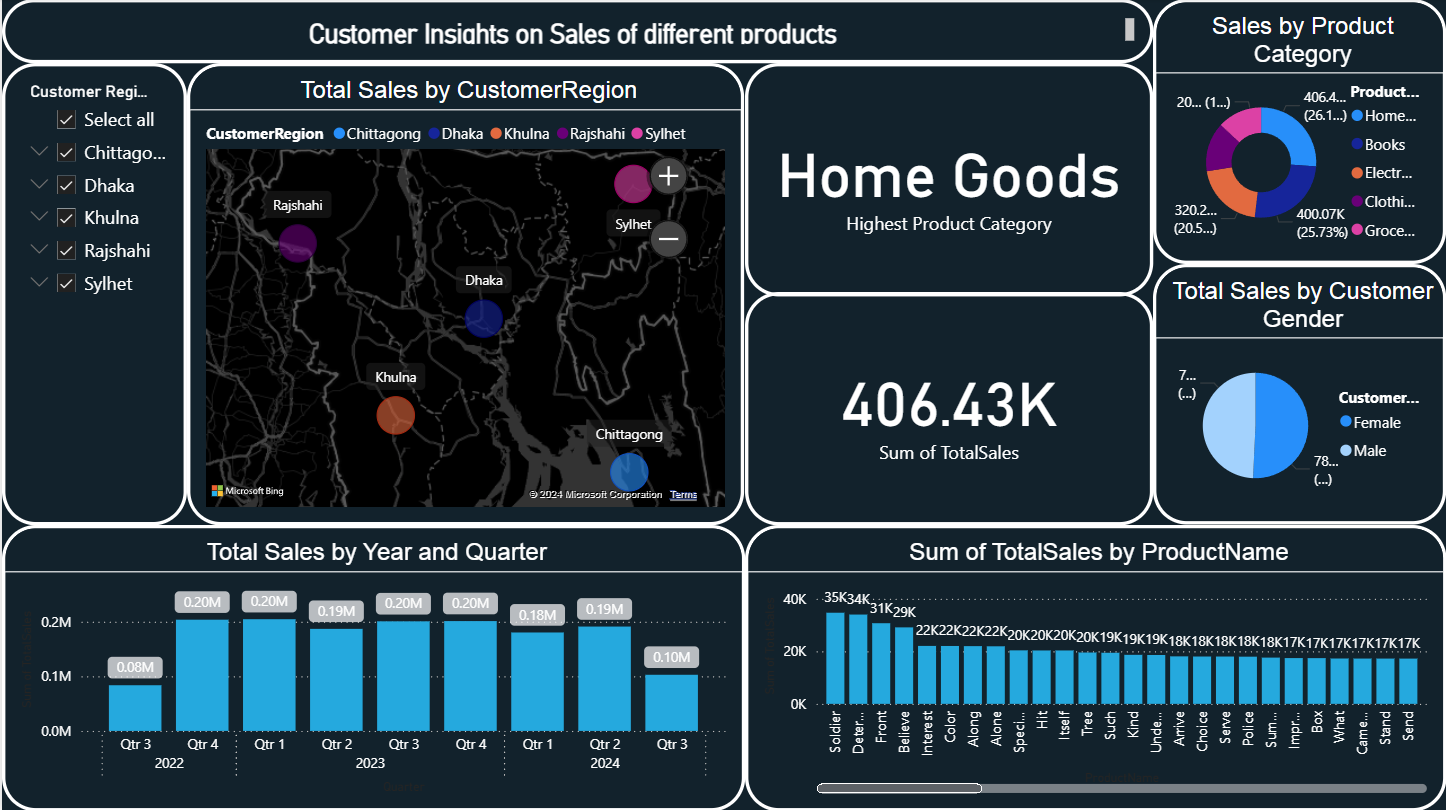

This screenshot's page, from the dashboard's own definition file:
{"tool":"powerbi","page":{"name":"Page 1","canvas":[1280,720],"ordinal":0},"visuals":[{"type":"map","title":"Total Sales by CustomerRegion","fields":{"Series":["Report.CustomerRegion"],"Size":["CountNonNull(Sales_region.TotalSales)"],"Category":["Report.CustomerRegion"]},"box":[164.4,56.4,494.1,410.5],"z":0},{"type":"textbox","box":[0,0,1020.6,56.7],"z":1000},{"type":"donutChart","title":"Sales by Product Category","fields":{"Category":["Report.ProductCategory"],"Y":["Sum(Report.TotalSales)"]},"box":[1020.6,0,259.8,235],"z":2000},{"type":"slicer","fields":{"Values":["Report.CustomerRegion","Report.ProductCategory"]},"box":[0,56.4,164.4,410.5],"z":3000},{"type":"columnChart","fields":{"Y":["Sum(Report.TotalSales)"],"Category":["Report.ProductName"]},"box":[658.8,466.4,621.6,253.6],"z":4000},{"type":"lineClusteredColumnComboChart","title":"Total Sales by Year and Quarter","fields":{"Category":["Report.SaleDate.Variation.Date Hierarchy.Year","Report.SaleDate.Variation.Date Hierarchy.Quarter","Report.SaleDate.Variation.Date Hierarchy.Month","Report.SaleDate.Variation.Date Hierarchy.Day"],"Y":["Sum(Report.TotalSales)"]},"box":[0,466.4,658.8,253.6],"z":5000},{"type":"pieChart","title":"Total Sales by Customer Gender","fields":{"Y":["Sum(Report.TotalSales)"],"Category":["Report.CustomerGender"]},"box":[1020.6,235,259.8,231.4],"z":8000},{"type":"card","fields":{"Values":["Min(Report.ProductCategory)"]},"box":[658.5,56.4,361.8,207.2],"z":8001},{"type":"card","fields":{"Values":["Sum(Report.TotalSales)"]},"box":[658.5,259.7,361.8,207.2],"z":8002}]}

Visuals, with their boxes in screenshot pixels (x1, y1, x2, y2), scaled from the page's 1280x720 canvas onto the 1446x810 screenshot:
"Total Sales by CustomerRegion" map: bbox=(186, 63, 744, 525)
textbox: bbox=(0, 0, 1153, 64)
"Sales by Product Category" donutChart: bbox=(1153, 0, 1445, 264)
slicer - Report.CustomerRegion x Report.ProductCategory: bbox=(0, 63, 186, 525)
columnChart - Sum(Report.TotalSales) x Report.ProductName: bbox=(744, 525, 1445, 809)
"Total Sales by Year and Quarter" lineClusteredColumnComboChart: bbox=(0, 525, 744, 809)
"Total Sales by Customer Gender" pieChart: bbox=(1153, 264, 1445, 525)
card - Min(Report.ProductCategory): bbox=(744, 63, 1153, 297)
card - Sum(Report.TotalSales): bbox=(744, 292, 1153, 525)
